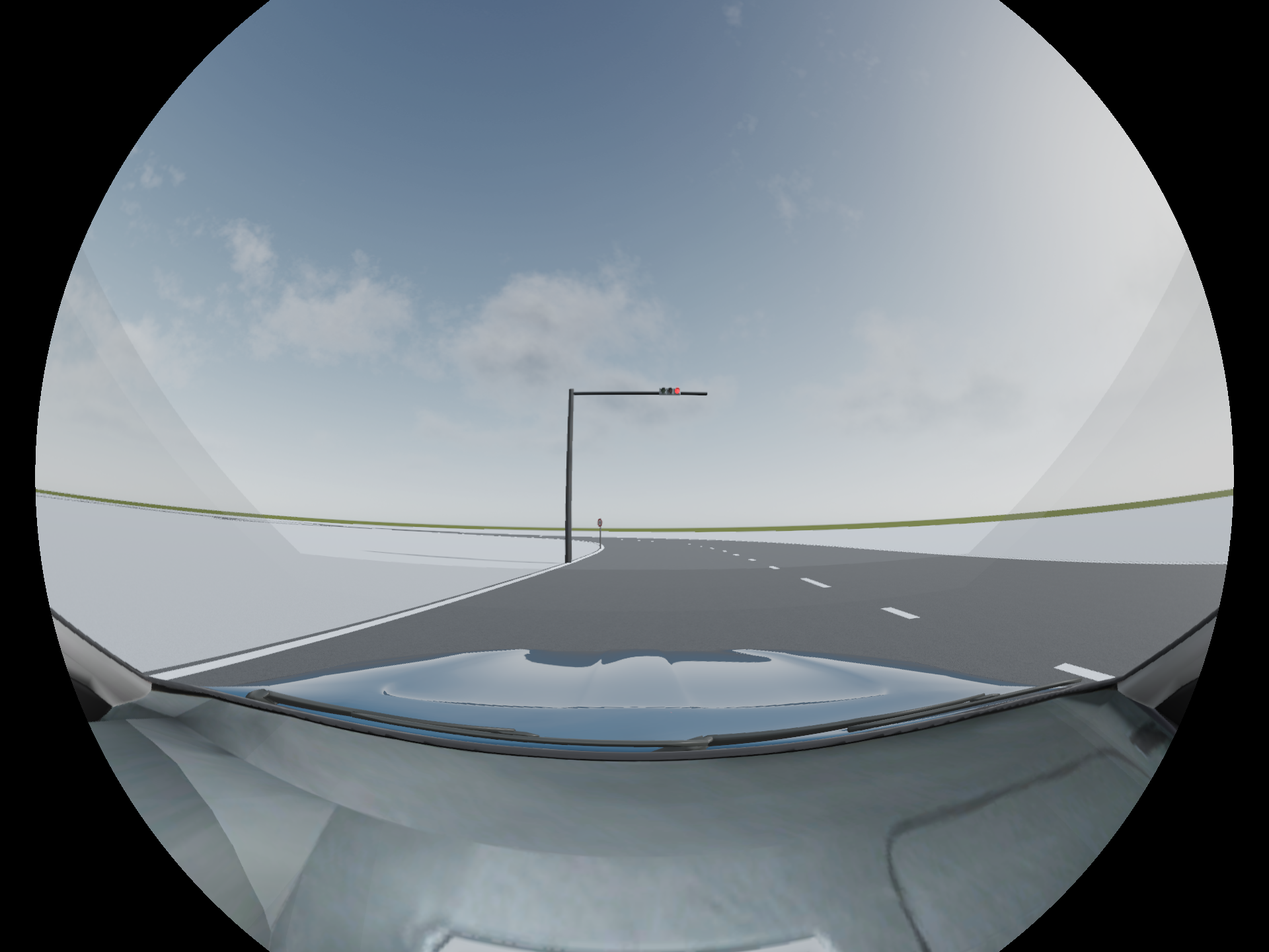Red Light: (660, 388, 682, 396)
